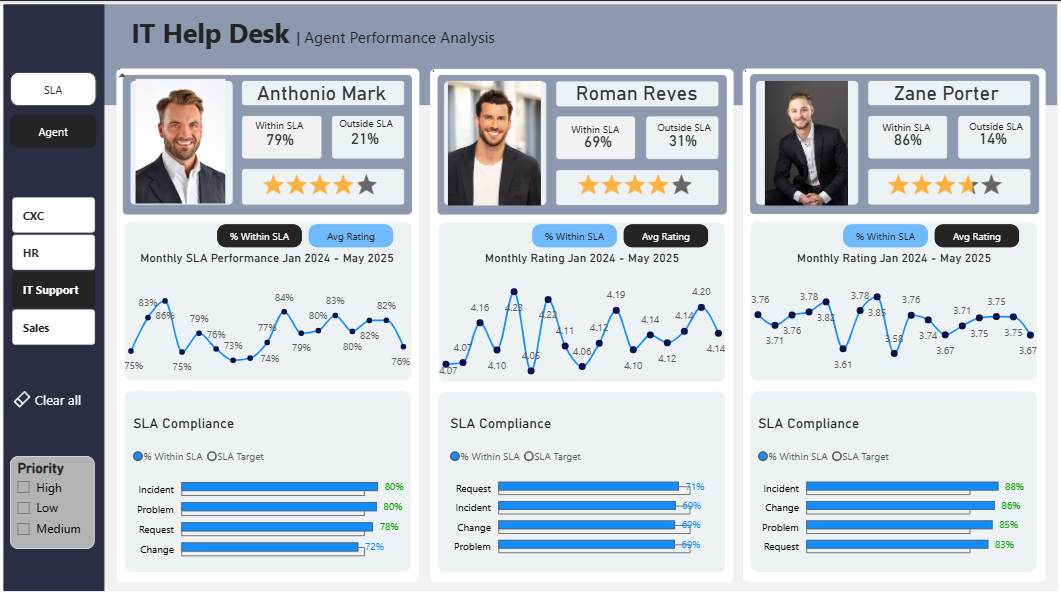

What the dashboard file says about the page in this screenshot:
{"tool":"powerbi","page":{"name":"Agent","canvas":[1280,720],"ordinal":1},"visuals":[{"type":"tableEx","fields":{"Values":["IT Helpdesk.Agent Url"]},"box":[132.7,63.8,171.3,196.5],"z":0,"group":"g1"},{"type":"advancedSlicerVisual","fields":{"Values":["IT Helpdesk.Department"]},"box":[10.6,231.3,110.3,188.7],"z":0},{"type":"tableEx","fields":{"Values":["IT Helpdesk.Agent Url"]},"box":[886.4,66,172,196.8],"z":1000,"group":"g1"},{"type":"advancedSlicerVisual","fields":{"Values":["KPI.KPI"]},"box":[257.4,264.3,223,38.5],"z":1000},{"type":"tableEx","fields":{"Values":["IT Helpdesk.Agent Url"]},"box":[510.6,66,172,196.8],"z":2000,"group":"g1"},{"type":"advancedSlicerVisual","fields":{"Values":["KPI.KPI"]},"box":[637.2,264.3,223,38.5],"z":2000},{"type":"advanceCardE03760C5AB684758B56AA29F9E6C257B","fields":{"mainMeasure":["Min(IT Helpdesk.Agent )"]},"box":[290.6,95.7,196.5,28.6],"z":3000,"group":"g1"},{"type":"advancedSlicerVisual","fields":{"Values":["KPI.KPI"]},"box":[1011.6,264.3,223,38.5],"z":3000},{"type":"group","id":"g1","title":"IT","box":[132.7,63.8,1122.1,620.2],"z":4000},{"type":"advanceCardE03760C5AB684758B56AA29F9E6C257B","fields":{"mainMeasure":["Min(IT Helpdesk.Agent )"]},"box":[1043.1,95.7,196.5,28.6],"z":4000,"group":"g1"},{"type":"advanceCardE03760C5AB684758B56AA29F9E6C257B","fields":{"mainMeasure":["Min(IT Helpdesk.Agent )"]},"box":[670.2,95.7,196.5,28.6],"z":5000,"group":"g1"},{"type":"advanceCardE03760C5AB684758B56AA29F9E6C257B","fields":{"mainMeasure":["All Measures.% Within SLA"]},"box":[302.8,151.4,72,26],"z":6000,"group":"g1"},{"type":"advanceCardE03760C5AB684758B56AA29F9E6C257B","fields":{"mainMeasure":["All Measures.% outside SLA"]},"box":[404.6,150,72,26],"z":7000,"group":"g1"},{"type":"actionButton","title":"IT Button","box":[13.3,454.6,115.6,49.5],"z":7000},{"type":"advanceCardE03760C5AB684758B56AA29F9E6C257B","fields":{"mainMeasure":["All Measures.% Within SLA"]},"box":[685.8,154.5,72,26],"z":8000,"group":"g1"},{"type":"advanceCardE03760C5AB684758B56AA29F9E6C257B","fields":{"mainMeasure":["All Measures.% outside SLA"]},"box":[787.6,153.1,72,26],"z":9000,"group":"g1"},{"type":"advanceCardE03760C5AB684758B56AA29F9E6C257B","fields":{"mainMeasure":["All Measures.% Within SLA"]},"box":[1059.1,152.1,72,26],"z":10000,"group":"g1"},{"type":"advanceCardE03760C5AB684758B56AA29F9E6C257B","fields":{"mainMeasure":["All Measures.% outside SLA"]},"box":[1161,150.7,72,26],"z":11000,"group":"g1"},{"type":"actionButton","box":[16,237.9,100.5,44],"z":11000},{"type":"PBI_CV_9053509D_D461_463A_B485_CE9F6AB0F13D","fields":{"value":["All Measures.Avg Rating"]},"box":[290.6,199.9,196.5,42],"z":12000,"group":"g1"},{"type":"actionButton","box":[14.6,283.1,100.5,44],"z":12000},{"type":"PBI_CV_9053509D_D461_463A_B485_CE9F6AB0F13D","fields":{"value":["All Measures.Avg Rating"]},"box":[670.2,199.9,196.5,42],"z":13000,"group":"g1"},{"type":"actionButton","box":[14.6,329.6,100.5,44],"z":13000},{"type":"PBI_CV_9053509D_D461_463A_B485_CE9F6AB0F13D","fields":{"value":["All Measures.Avg Rating"]},"box":[1043.1,199.9,196.5,42],"z":14000,"group":"g1"},{"type":"actionButton","box":[14.6,377.5,101.8,42.7],"z":14000},{"type":"textbox","box":[304,134.4,79,28.6],"z":15000,"group":"g1"},{"type":"slicer","fields":{"Values":["IT Helpdesk.Priority"]},"box":[13.3,547.6,102.3,111.7],"z":15000},{"type":"pageNavigator","box":[13.8,85.3,104.6,92.2],"z":16000},{"type":"textbox","box":[404.8,132.7,79,28.6],"z":16000,"group":"g1"},{"type":"textbox","box":[154.2,11,656.5,57.8],"z":17000},{"type":"textbox","box":[683.7,139.4,79,28.6],"z":17000,"group":"g1"},{"type":"textbox","box":[787.8,137.7,79,28.6],"z":18000,"group":"g1"},{"type":"textbox","box":[1058.3,137.7,79,28.6],"z":19000,"group":"g1"},{"type":"textbox","box":[1162.9,136.1,79,28.6],"z":20000,"group":"g1"},{"type":"lineChart","fields":{"Category":["Calendar.Month-Year"],"Y":["All Measures.% Within SLA"]},"box":[146.1,300.7,354.4,154.5],"z":21000,"group":"g1"},{"type":"lineChart","fields":{"Category":["Calendar.Month-Year"],"Y":["All Measures.Avg Rating"]},"box":[525.8,300.7,354.4,154.5],"z":22000,"group":"g1"},{"type":"lineChart","fields":{"Category":["Calendar.Month-Year"],"Y":["All Measures.Avg Rating"]},"box":[900.4,300.7,354.4,151.2],"z":23000,"group":"g1"},{"type":"clusteredBarChart","title":"SLA Compliance","fields":{"Category":["IT Helpdesk.Type"],"Y":["All Measures.% Within SLA","All Measures.SLA Target"]},"box":[156.9,498.2,335.8,185.8],"z":24000,"group":"g1"},{"type":"clusteredBarChart","title":"SLA Compliance","fields":{"Category":["IT Helpdesk.Type"],"Y":["All Measures.% Within SLA","All Measures.SLA Target"]},"box":[538.1,498.2,330.3,181.7],"z":25000,"group":"g1"},{"type":"clusteredBarChart","title":"SLA Compliance","fields":{"Category":["IT Helpdesk.Type"],"Y":["All Measures.% Within SLA","All Measures.SLA Target"]},"box":[908.8,498.9,330.3,181.7],"z":26000,"group":"g1"}]}

Visuals, with their boxes on the page's 1280x720 design canvas (x1, y1, x2, y2). These are canvas units, not pixel positions in the 1061x593 screenshot, which may show the page scaled, cropped or inside an application window:
tableEx - IT Helpdesk.Agent Url: [x1=133, y1=64, x2=304, y2=260]
advancedSlicerVisual - IT Helpdesk.Department: [x1=11, y1=231, x2=121, y2=420]
tableEx - IT Helpdesk.Agent Url: [x1=886, y1=66, x2=1058, y2=263]
advancedSlicerVisual - KPI.KPI: [x1=257, y1=264, x2=480, y2=303]
tableEx - IT Helpdesk.Agent Url: [x1=511, y1=66, x2=683, y2=263]
advancedSlicerVisual - KPI.KPI: [x1=637, y1=264, x2=860, y2=303]
advanceCardE03760C5AB684758B56AA29F9E6C257B - Min(IT Helpdesk.Agent ): [x1=291, y1=96, x2=487, y2=124]
advancedSlicerVisual - KPI.KPI: [x1=1012, y1=264, x2=1235, y2=303]
"IT" group: [x1=133, y1=64, x2=1255, y2=684]
advanceCardE03760C5AB684758B56AA29F9E6C257B - Min(IT Helpdesk.Agent ): [x1=1043, y1=96, x2=1240, y2=124]
advanceCardE03760C5AB684758B56AA29F9E6C257B - Min(IT Helpdesk.Agent ): [x1=670, y1=96, x2=867, y2=124]
advanceCardE03760C5AB684758B56AA29F9E6C257B - All Measures.% Within SLA: [x1=303, y1=151, x2=375, y2=177]
advanceCardE03760C5AB684758B56AA29F9E6C257B - All Measures.% outside SLA: [x1=405, y1=150, x2=477, y2=176]
"IT Button" actionButton: [x1=13, y1=455, x2=129, y2=504]
advanceCardE03760C5AB684758B56AA29F9E6C257B - All Measures.% Within SLA: [x1=686, y1=154, x2=758, y2=180]
advanceCardE03760C5AB684758B56AA29F9E6C257B - All Measures.% outside SLA: [x1=788, y1=153, x2=860, y2=179]
advanceCardE03760C5AB684758B56AA29F9E6C257B - All Measures.% Within SLA: [x1=1059, y1=152, x2=1131, y2=178]
advanceCardE03760C5AB684758B56AA29F9E6C257B - All Measures.% outside SLA: [x1=1161, y1=151, x2=1233, y2=177]
actionButton: [x1=16, y1=238, x2=116, y2=282]
PBI_CV_9053509D_D461_463A_B485_CE9F6AB0F13D - All Measures.Avg Rating: [x1=291, y1=200, x2=487, y2=242]
actionButton: [x1=15, y1=283, x2=115, y2=327]
PBI_CV_9053509D_D461_463A_B485_CE9F6AB0F13D - All Measures.Avg Rating: [x1=670, y1=200, x2=867, y2=242]
actionButton: [x1=15, y1=330, x2=115, y2=374]
PBI_CV_9053509D_D461_463A_B485_CE9F6AB0F13D - All Measures.Avg Rating: [x1=1043, y1=200, x2=1240, y2=242]
actionButton: [x1=15, y1=378, x2=116, y2=420]
textbox: [x1=304, y1=134, x2=383, y2=163]
slicer - IT Helpdesk.Priority: [x1=13, y1=548, x2=116, y2=659]
pageNavigator: [x1=14, y1=85, x2=118, y2=178]
textbox: [x1=405, y1=133, x2=484, y2=161]
textbox: [x1=154, y1=11, x2=811, y2=69]
textbox: [x1=684, y1=139, x2=763, y2=168]
textbox: [x1=788, y1=138, x2=867, y2=166]
textbox: [x1=1058, y1=138, x2=1137, y2=166]
textbox: [x1=1163, y1=136, x2=1242, y2=165]
lineChart - Calendar.Month-Year x All Measures.% Within SLA: [x1=146, y1=301, x2=500, y2=455]
lineChart - Calendar.Month-Year x All Measures.Avg Rating: [x1=526, y1=301, x2=880, y2=455]
lineChart - Calendar.Month-Year x All Measures.Avg Rating: [x1=900, y1=301, x2=1255, y2=452]
"SLA Compliance" clusteredBarChart: [x1=157, y1=498, x2=493, y2=684]
"SLA Compliance" clusteredBarChart: [x1=538, y1=498, x2=868, y2=680]
"SLA Compliance" clusteredBarChart: [x1=909, y1=499, x2=1239, y2=681]
